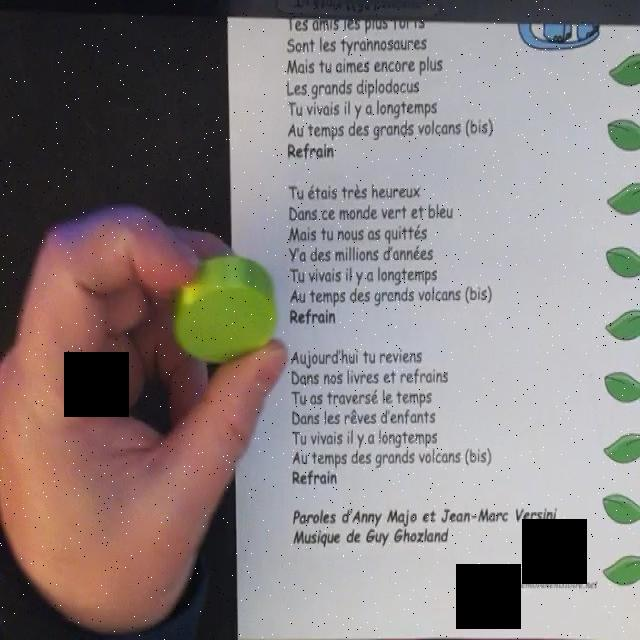round: (170, 258, 278, 366)
